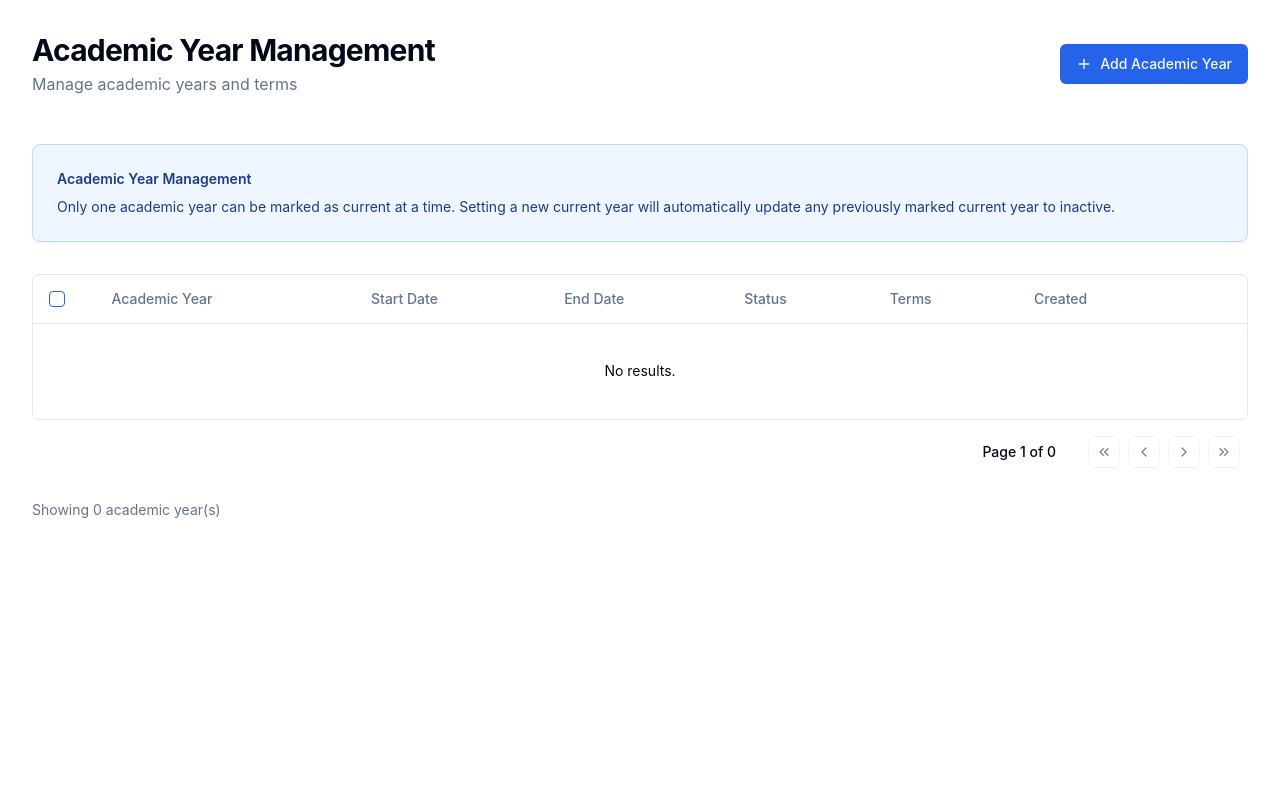
it: AcademicYearManagementPage › CRUD Operations › should open create dialog when Add Academic Year button is clicked
This screenshot has width=1280, height=800.
Click the button "Add Academic Year".
click(1154, 64)  # box [1060, 44, 1248, 84]
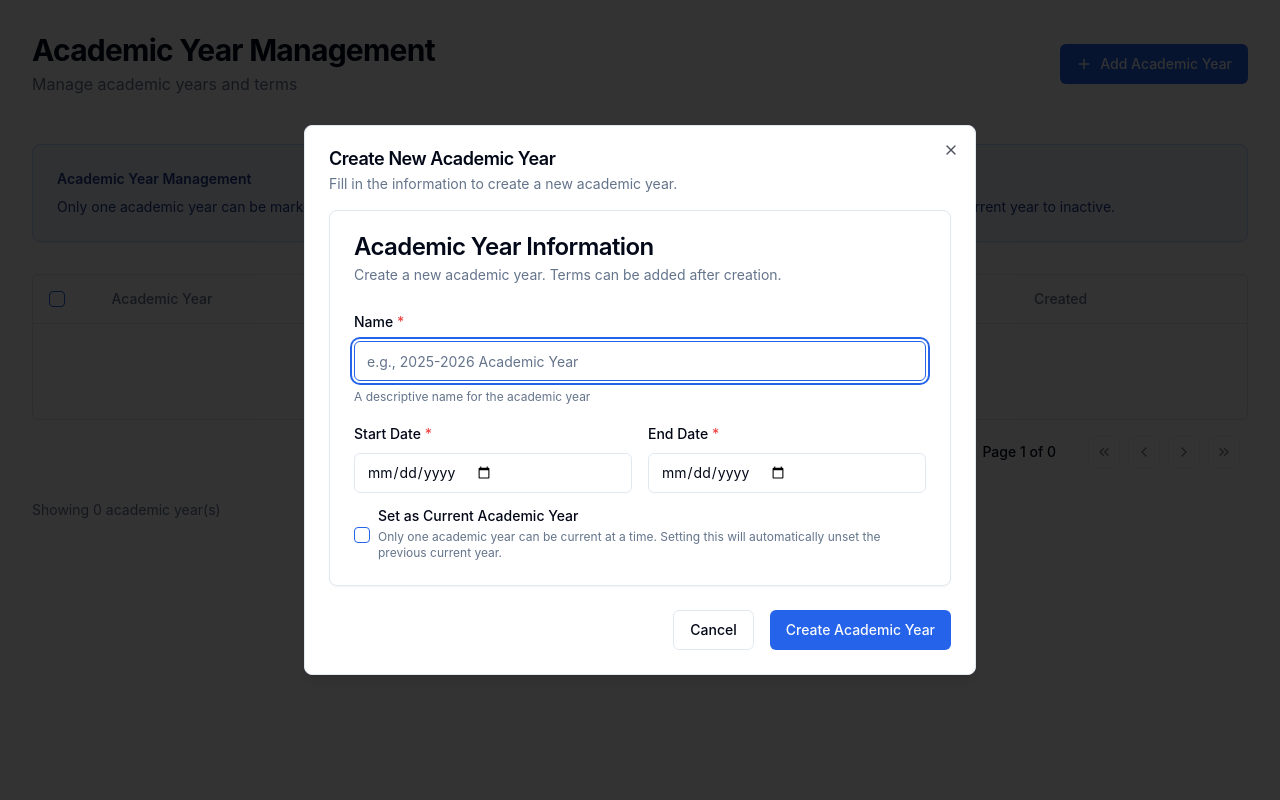
Now the heading "Create New Academic Year" is shown, box [329, 148, 555, 169]
